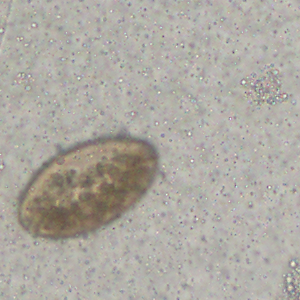Fasciola_hepatica_egg: (15, 134, 160, 243)
